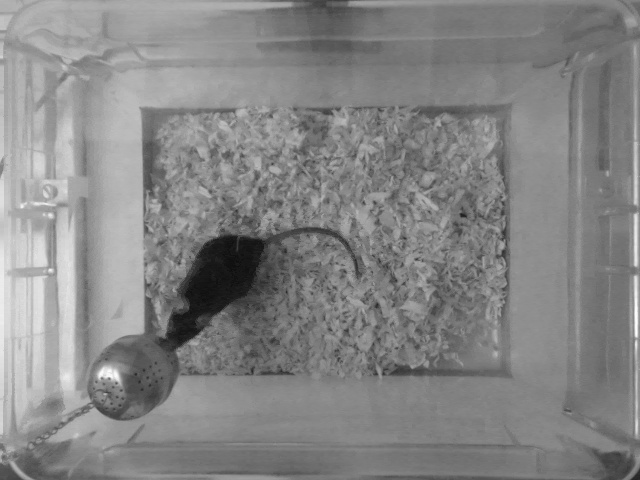mice: (161, 224, 358, 350)
